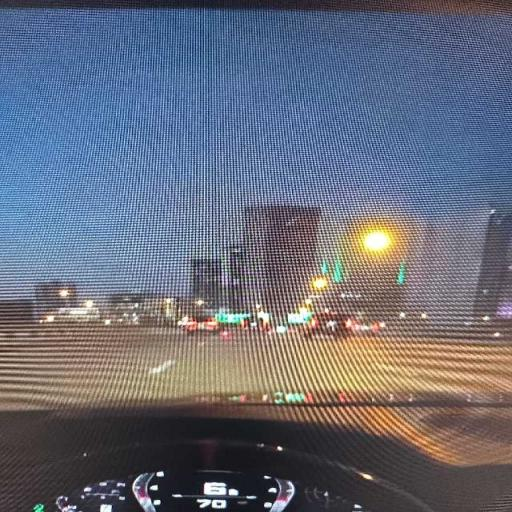lane: (0, 329, 511, 408)
